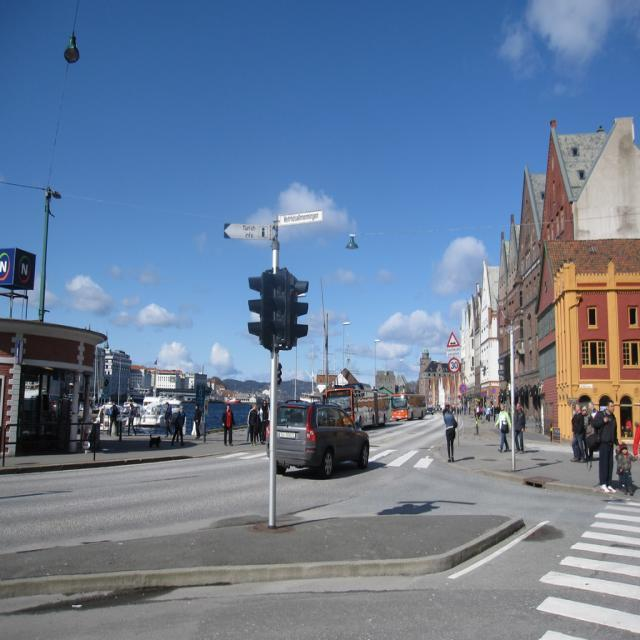off traffic light: (269, 266, 309, 355), (247, 271, 271, 353), (498, 356, 510, 382)
road_sign: (446, 332, 461, 348), (448, 358, 460, 372)
